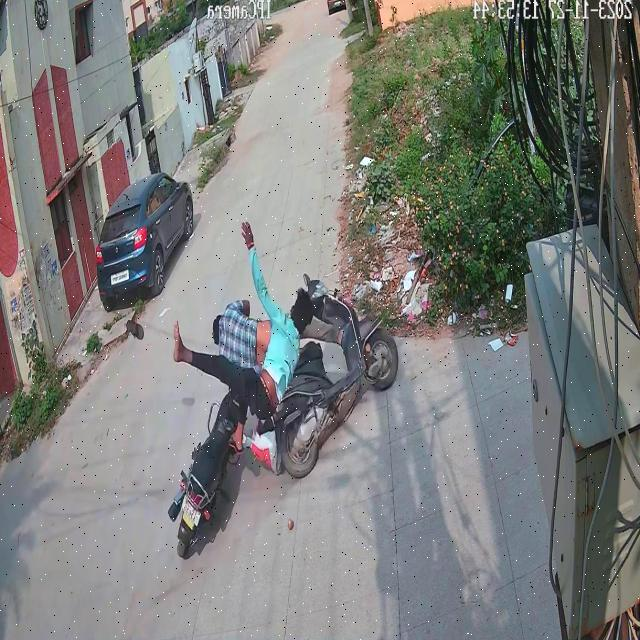accident: (151, 212, 402, 566)
